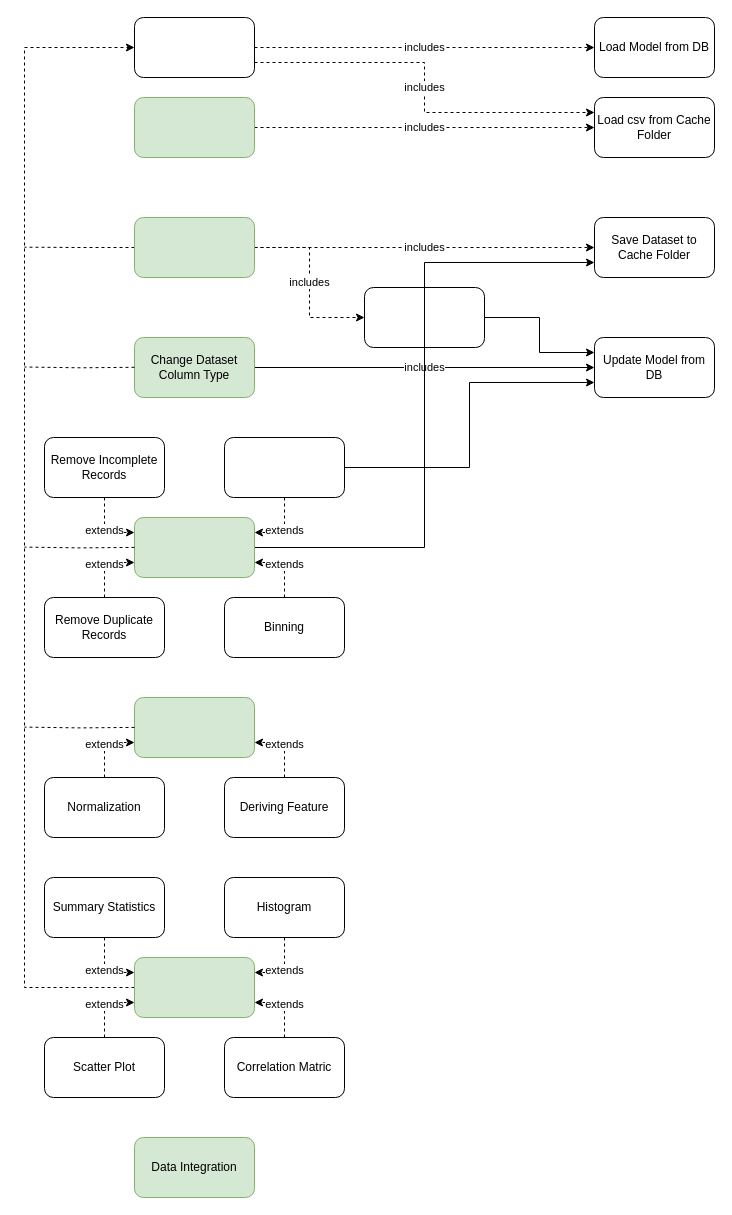
This 732x1215 diagram has some shape labels left out. The shapes that lost their labels are listed below. From the top down, each one's box as (x1, y1, x2, y2) in pixels, then its label:
(134, 16, 254, 78): View Dataset
(134, 96, 254, 158): Export Dataset
(134, 216, 254, 278): Import Dataset
(364, 286, 484, 348): Infering Data Types
(224, 436, 344, 498): Remove Column
(134, 516, 254, 578): Data Cleaning
(134, 696, 254, 758): Data Transformation
(134, 956, 254, 1018): Data Exploration
